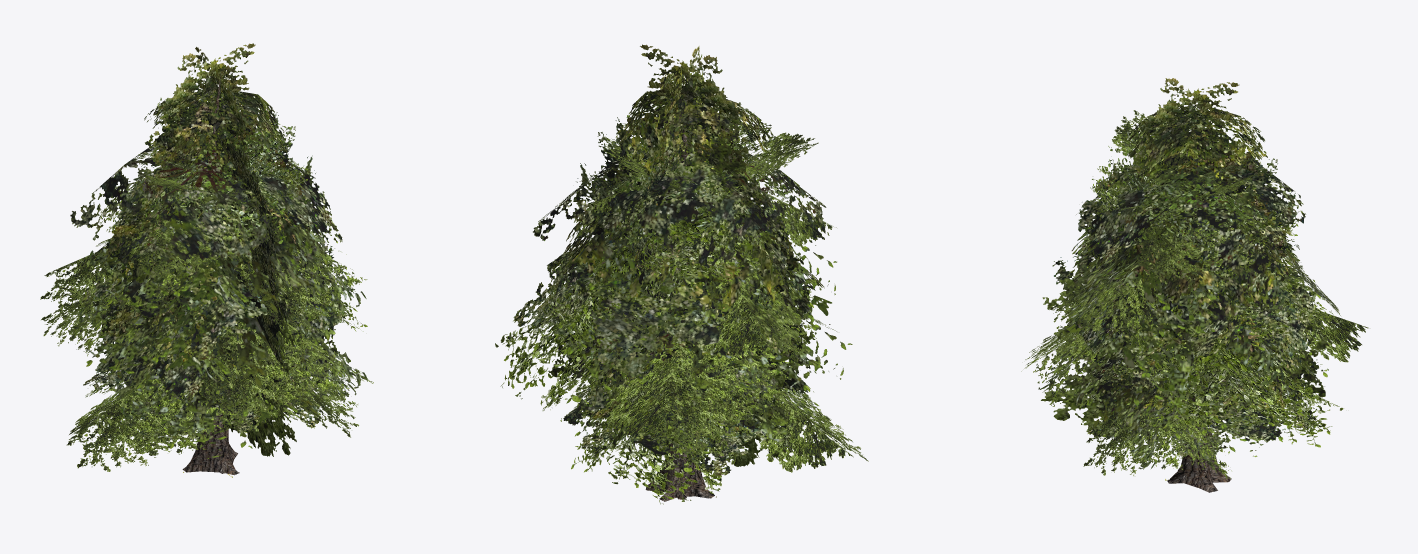
Rendered from forest_trees.glb.
3 views of the same model, side by side, from view 1: azimuth 30°, elevation 25°; view 2: azimuth 150°, elevation 25°; view 3: azimuth 270°, elevation 25° (orthographic). The views are drawn at different scales.
Parts seen in each view (by area): view 1: forest_trees.004, forest_trees.001, forest_trees.002, forest_trees.003; view 2: forest_trees.001, forest_trees.004, forest_trees.003, forest_trees.002; view 3: forest_trees.001, forest_trees.004, forest_trees.002, forest_trees.003.
Boxes of the visible parts, x1,y1,x2,y2 form: forest_trees.004: (70, 106, 354, 471); forest_trees.001: (40, 123, 373, 475); forest_trees.002: (73, 116, 367, 473); forest_trees.003: (99, 43, 321, 477); forest_trees.001: (495, 128, 868, 504); forest_trees.004: (513, 112, 829, 498); forest_trees.003: (552, 44, 804, 497); forest_trees.002: (541, 113, 852, 499); forest_trees.001: (1021, 110, 1368, 492); forest_trees.004: (1052, 135, 1340, 489); forest_trees.002: (1038, 129, 1328, 470); forest_trees.003: (1085, 78, 1308, 480).
Size of the model in its own units: 9.34 by 9.93 by 9.34.
Materials: 5 (5 with a texture image).
